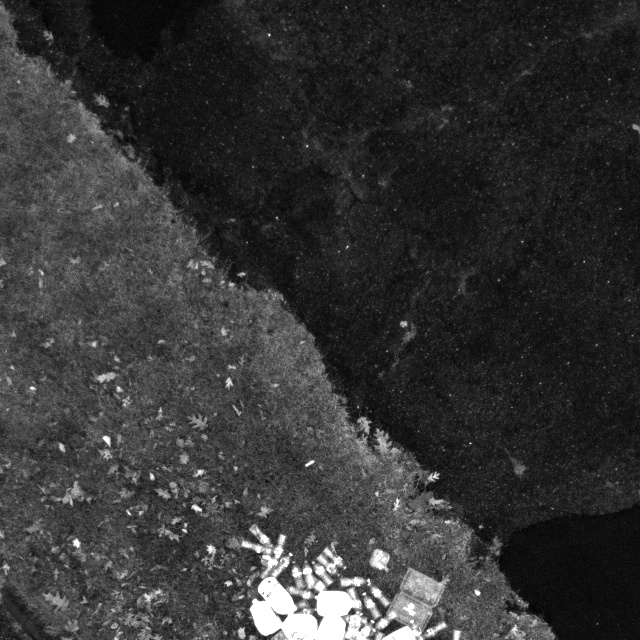bottle: (359, 590, 384, 623), (323, 545, 352, 572), (309, 560, 336, 587), (247, 523, 274, 549), (269, 550, 294, 578), (256, 551, 280, 580), (284, 585, 322, 603), (314, 552, 341, 577), (239, 537, 274, 555), (369, 583, 392, 610), (269, 531, 288, 562), (290, 559, 307, 591), (345, 586, 363, 615), (300, 558, 315, 587), (259, 543, 276, 568), (306, 573, 328, 592), (335, 577, 373, 588)
can: (255, 574, 298, 615), (312, 589, 363, 621)
container: (386, 565, 447, 631), (366, 545, 393, 573)
